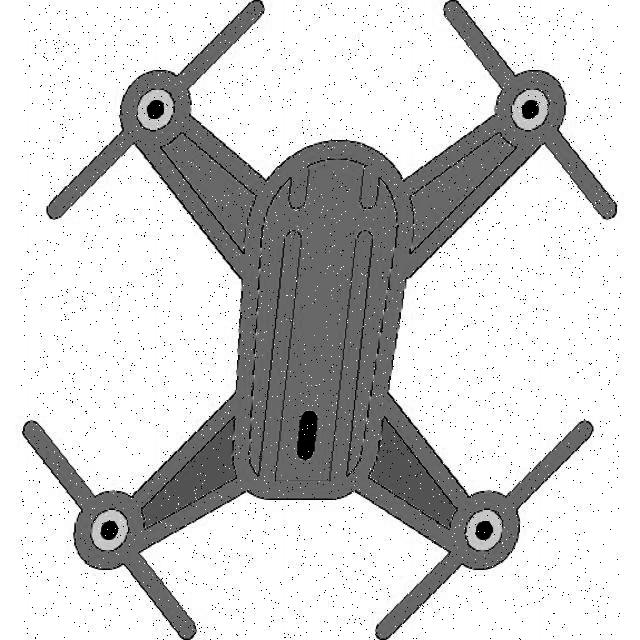drone: (22, 4, 622, 640)
